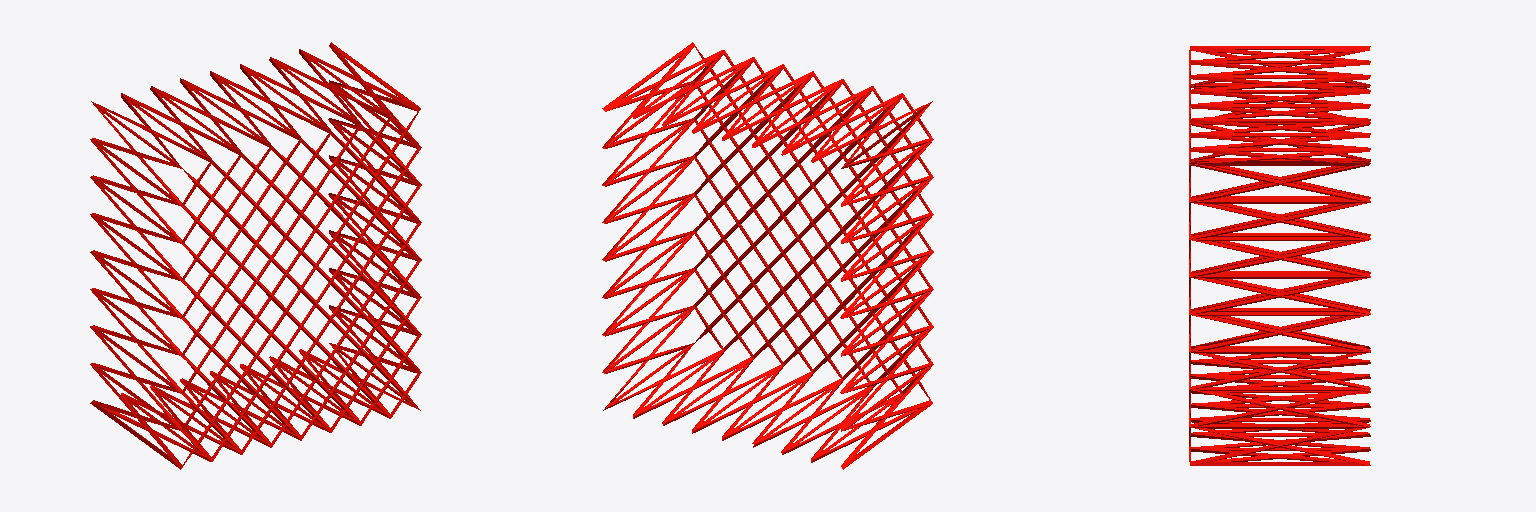
The picture shows the model from 3 angles: view 1: azimuth 30°, elevation 25°; view 2: azimuth 150°, elevation 25°; view 3: azimuth 270°, elevation 25°; orthographic projection.
Visible parts, largest first — view 1: 立方体; view 2: 立方体; view 3: 立方体.
Part boxes in pixels (bbox=[...]): 立方体: bbox=[90, 42, 421, 469]; 立方体: bbox=[602, 42, 933, 469]; 立方体: bbox=[1189, 46, 1370, 465].
Size of the model in its own units: 0.6131 by 0.7375 by 0.4021.
1 materials, 1 textured.